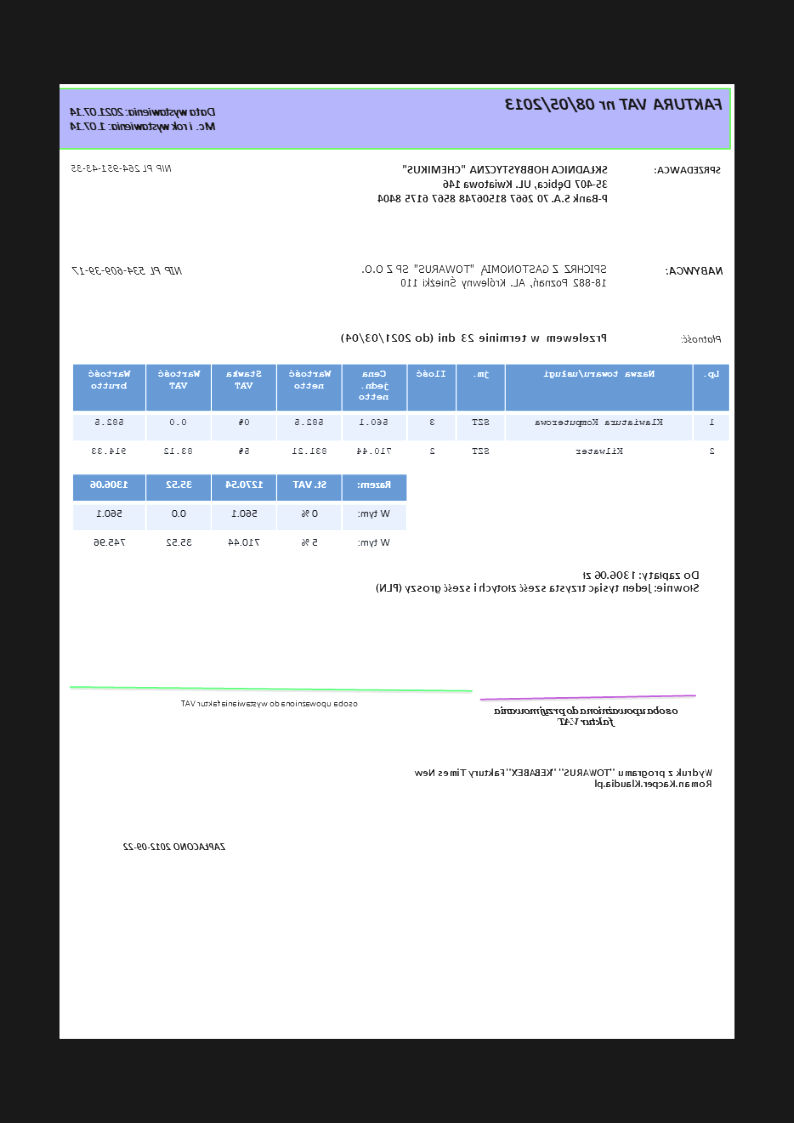Table: (72, 363, 732, 471), (71, 473, 408, 559)
TextBox: (375, 162, 610, 206), (374, 569, 701, 596), (413, 766, 715, 791), (359, 262, 610, 289), (503, 95, 725, 115), (68, 105, 218, 134), (492, 704, 679, 727), (339, 331, 609, 345), (180, 698, 360, 711), (122, 839, 228, 854), (71, 264, 184, 278), (71, 162, 173, 174), (652, 163, 723, 177), (664, 264, 725, 278), (680, 332, 723, 345)
